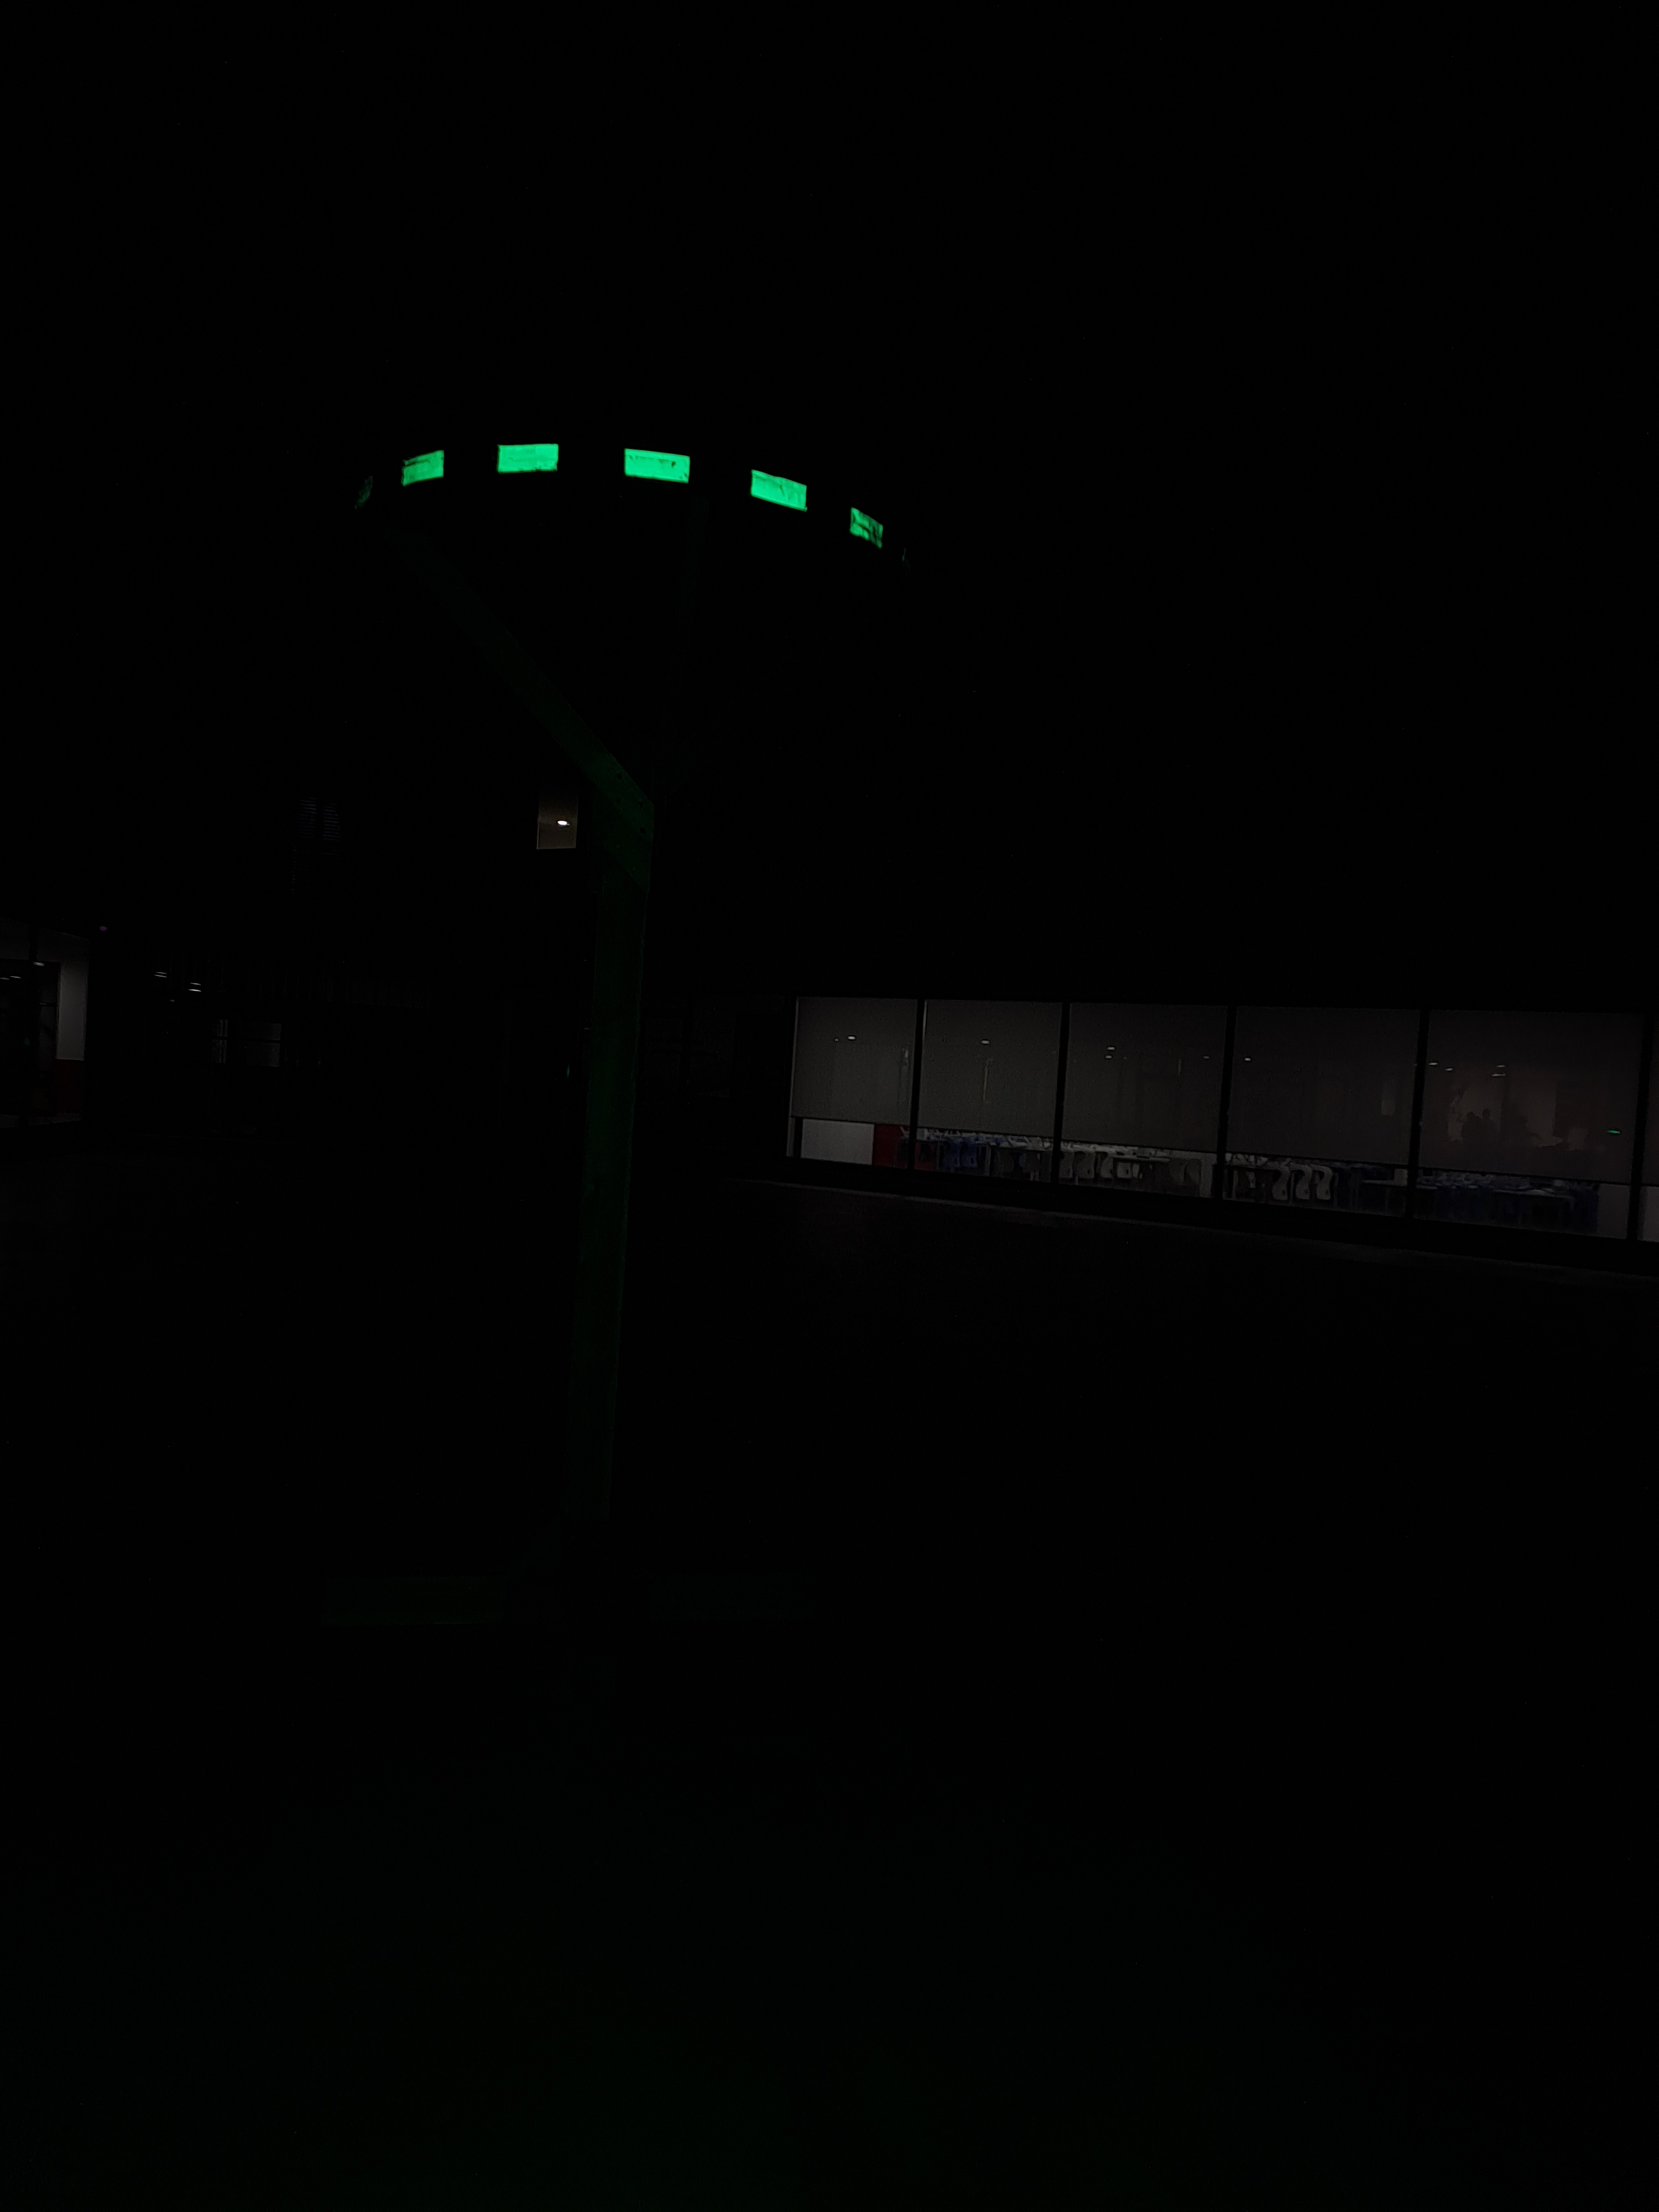hoop: (399, 416, 890, 557)
